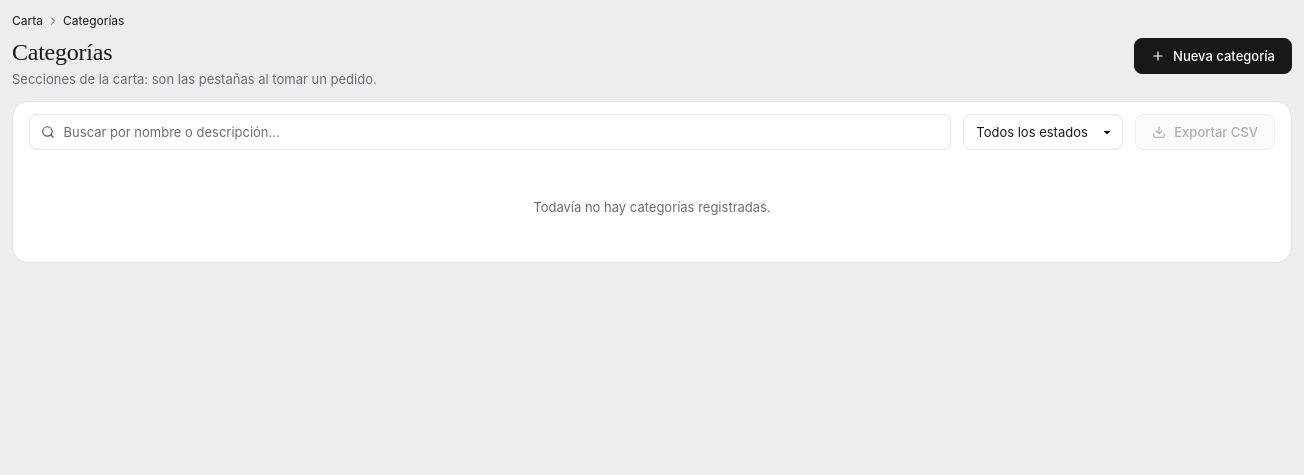
it: Categorías — listado › no abre ningún diálogo para crear: navega a la pantalla /nuevo con migas
expect the text "Todavía no hay categorías registradas." is shown: met, box [533, 200, 771, 216]
Click the button "Nueva categoría". click: (1213, 56)
box: [1134, 38, 1292, 74]
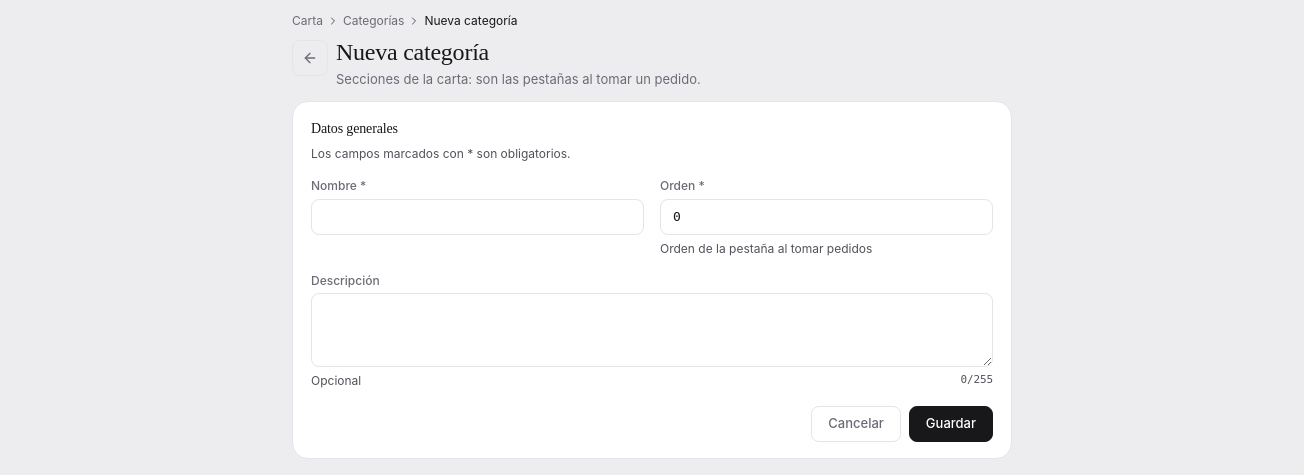
expect the navigation bar named "Ruta de navegación" shows "Carta": met, box [292, 12, 323, 30]
expect the heading "Nueva categoría" is shown: met, box [336, 39, 489, 65]
expect the navigation bar named "Ruta de navegación" shows "Nueva categoría": met, box [424, 13, 517, 28]
